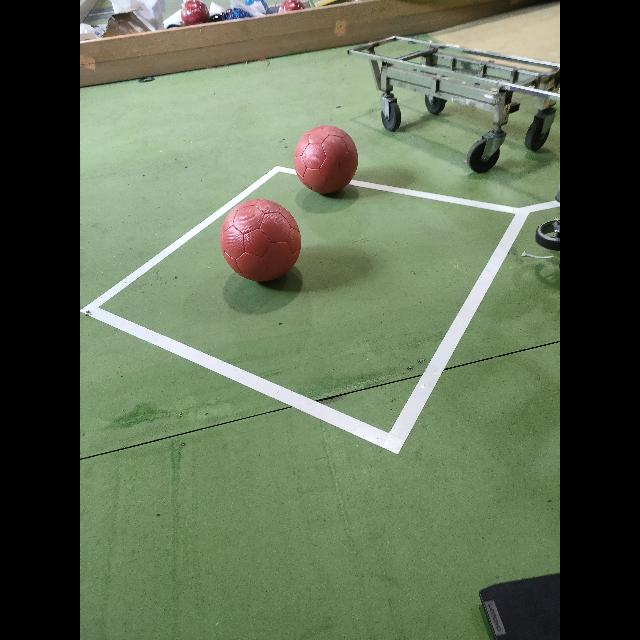R: (220, 199, 300, 281), (294, 125, 358, 193)
